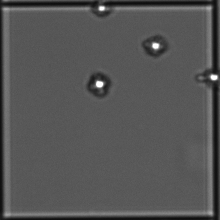Living Cell: (91, 2, 114, 17), (146, 37, 167, 53), (91, 73, 109, 91), (205, 70, 219, 84)
